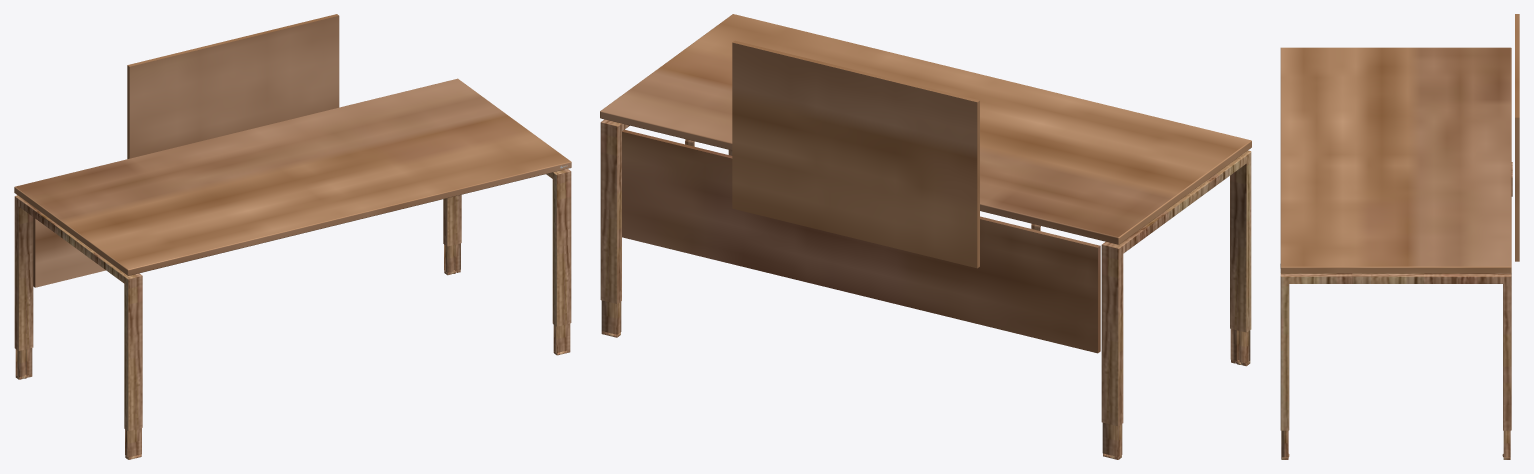
Rendered from rectangle_180x80_shield_legroom_finala.fbx.
The picture shows the model from 3 angles, left to right: view 1: azimuth 30°, elevation 25°; view 2: azimuth 150°, elevation 25°; view 3: azimuth 270°, elevation 25°; orthographic projection. The views are drawn at different scales.
Visible parts, largest first — view 1: blat_mesh, drewno3_mesh, metal_mesh, drewno_mesh; view 2: blat_mesh, drewno3_mesh, drewno_mesh, metal_mesh; view 3: blat_mesh, metal_mesh, drewno3_mesh.
Part boxes in pixels (x1,y1,x2,y2): blat_mesh: (14,78,571,275); drewno3_mesh: (127,14,339,158); metal_mesh: (14,169,571,457); drewno_mesh: (33,217,105,287); blat_mesh: (600,14,1251,244); drewno3_mesh: (732,40,979,268); drewno_mesh: (622,129,1100,353); metal_mesh: (600,119,1251,456); blat_mesh: (1280,47,1511,273); metal_mesh: (1280,162,1512,457); drewno3_mesh: (1515,14,1519,261).
Size of the model in its own units: 180 by 109 by 82.73.
